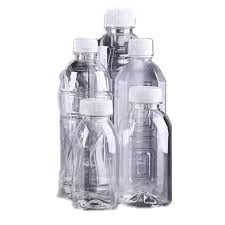available: (58, 38, 119, 197), (96, 7, 150, 177), (116, 40, 165, 174), (120, 85, 172, 205), (70, 97, 123, 211)
